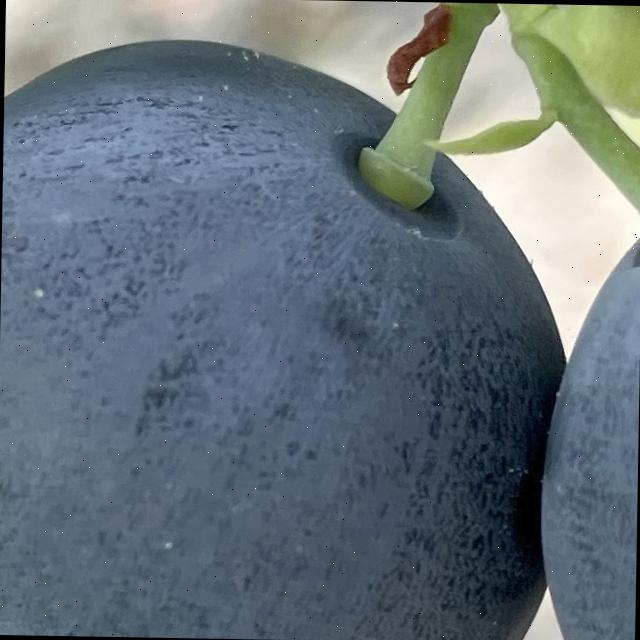Blueberries: (0, 29, 570, 640)
